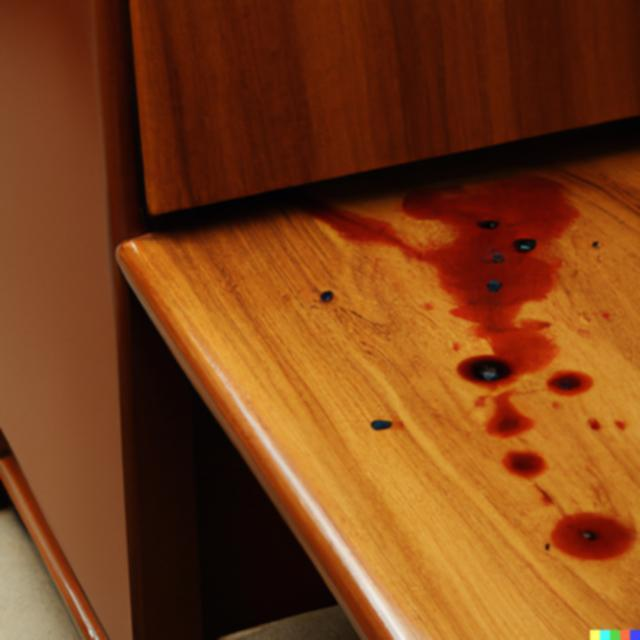blood: (304, 172, 584, 392), (550, 512, 636, 560), (472, 387, 539, 439), (501, 449, 549, 478), (587, 417, 600, 430), (613, 421, 626, 429)
